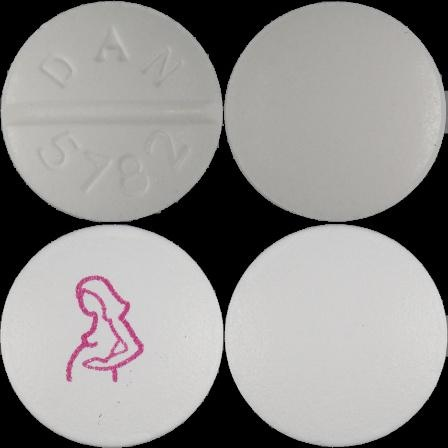55289-993: (0, 0, 224, 224)
